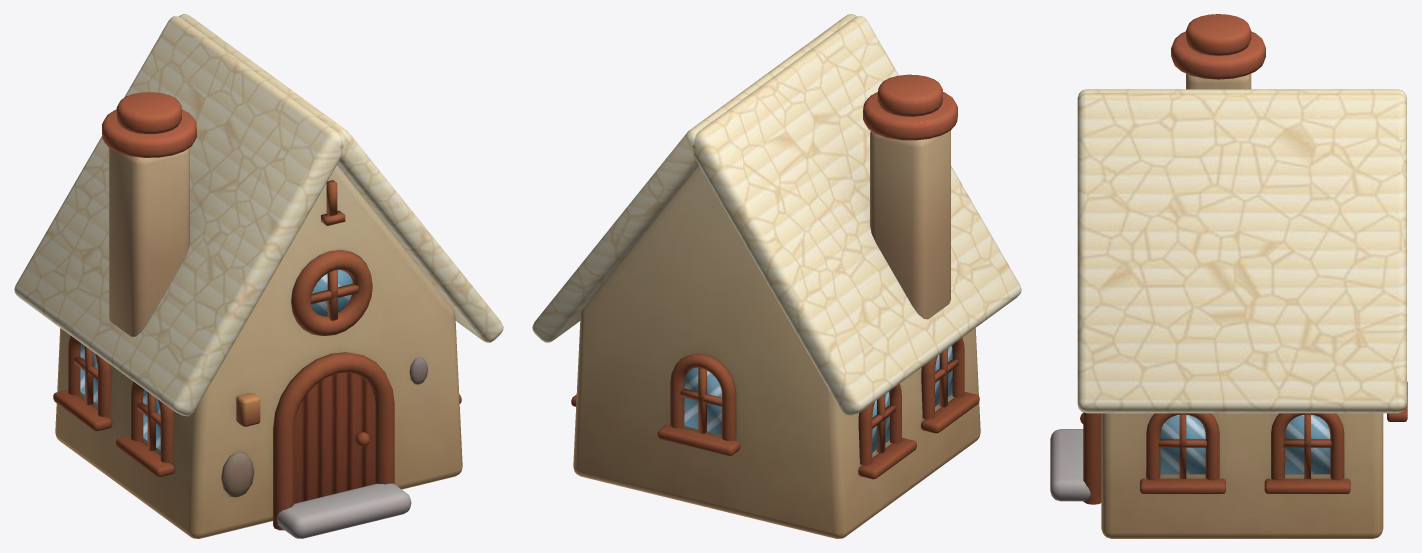
File: hut_high.glb
3 renders of one model, left to right at view 1: azimuth 30°, elevation 25°; view 2: azimuth 150°, elevation 25°; view 3: azimuth 270°, elevation 25°, orthographic.
Visible parts, largest first — view 1: hut; view 2: hut; view 3: hut.
Boxes of the visible parts, box(x1,y1,x2,y2) form: hut: box(14, 14, 503, 538); hut: box(532, 14, 1021, 538); hut: box(1050, 14, 1407, 538).
Size of the model in its own units: 1.28 by 1.45 by 1.2.
Materials: 1 (1 with a texture image).
